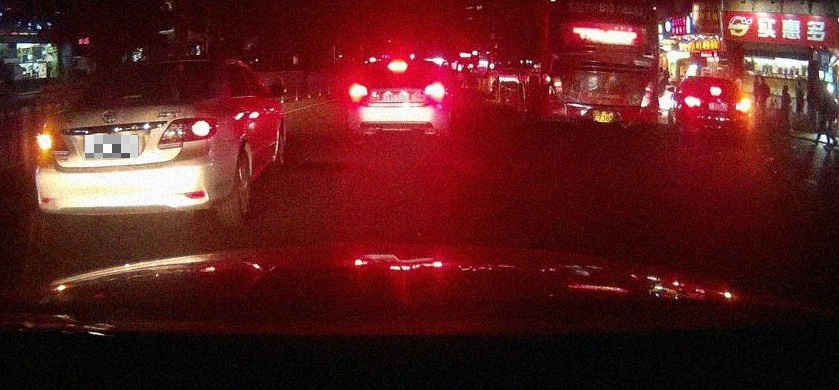L_light: (36, 123, 69, 154), (349, 83, 367, 102), (684, 96, 701, 108)
R_light: (157, 116, 218, 150), (424, 82, 445, 103), (736, 101, 748, 113)
T_light: (387, 60, 408, 73), (121, 94, 143, 99), (710, 87, 722, 96)
night-brake: (348, 60, 448, 140)
night-left: (35, 57, 231, 229)
night-right: (683, 76, 749, 137)
plate_1: (85, 135, 138, 158)
